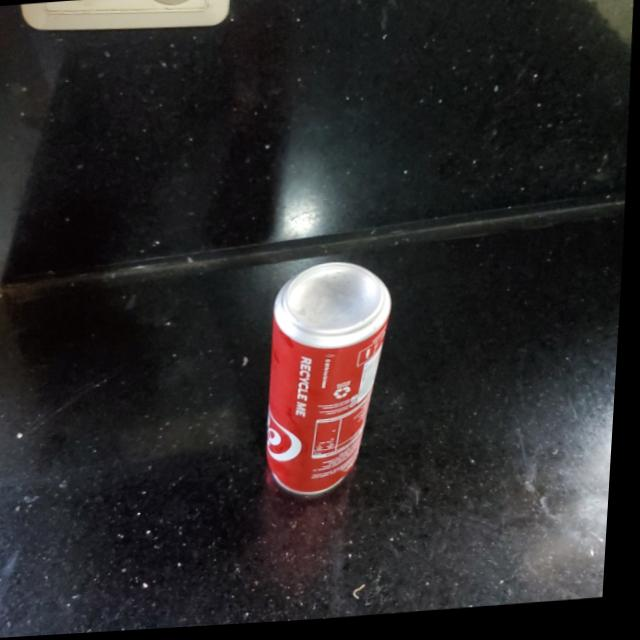coke: (271, 264, 406, 503)
